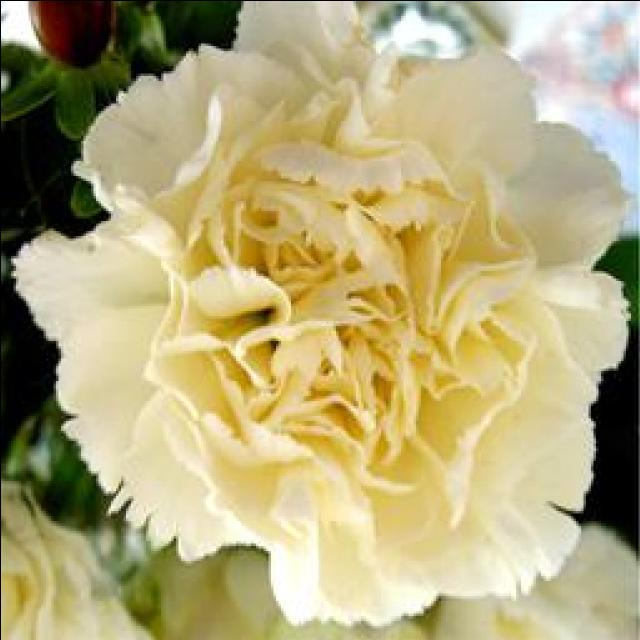carnation: (25, 28, 615, 618)
